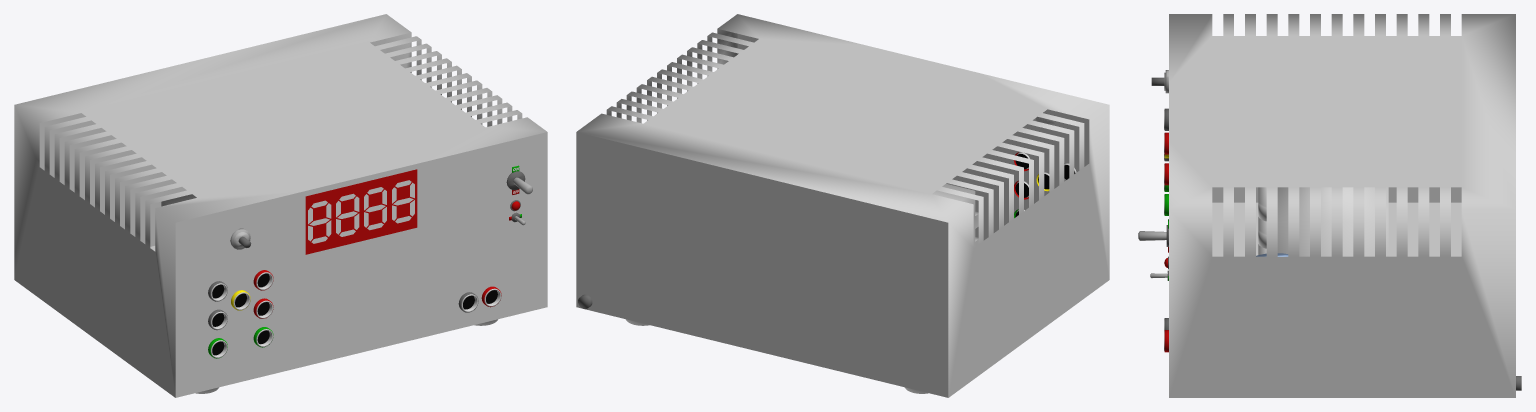
The model's file is Fuente+de+Energia.glb.
The picture shows the model from 3 angles, left to right: view 1: azimuth 30°, elevation 25°; view 2: azimuth 150°, elevation 25°; view 3: azimuth 270°, elevation 25°; orthographic projection. The views are drawn at different scales.
Visible parts, largest first — view 1: Geom3D (×4); view 2: Geom3D (×2), Geom3D_Componente#16; view 3: Geom3D (×2), Geom3D_Componente#16.
Part boxes in pixels (x1,y1,x2,y2): Geom3D (×4): [14, 14, 547, 397]; Geom3D (×2): [576, 14, 1109, 397]; Geom3D_Componente#16: [932, 183, 978, 247]; Geom3D (×2): [1169, 14, 1515, 397]; Geom3D_Componente#16: [1258, 187, 1388, 256].
Size of the model in its own units: 0.2 by 0.0976 by 0.1658.
